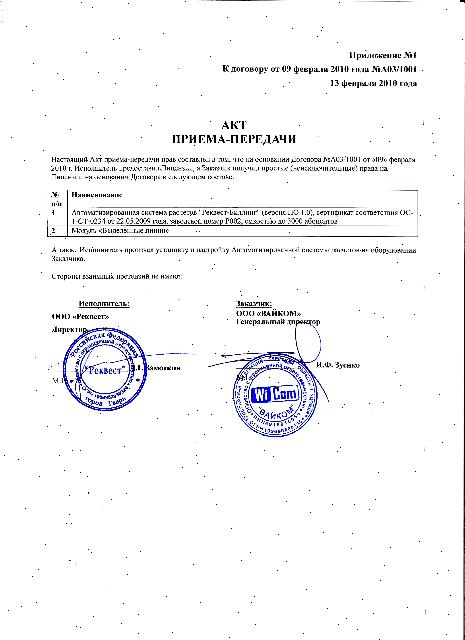stamp: (232, 352, 318, 438), (63, 326, 147, 412)
